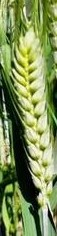Healthy Wheat: (9, 24, 57, 195)
